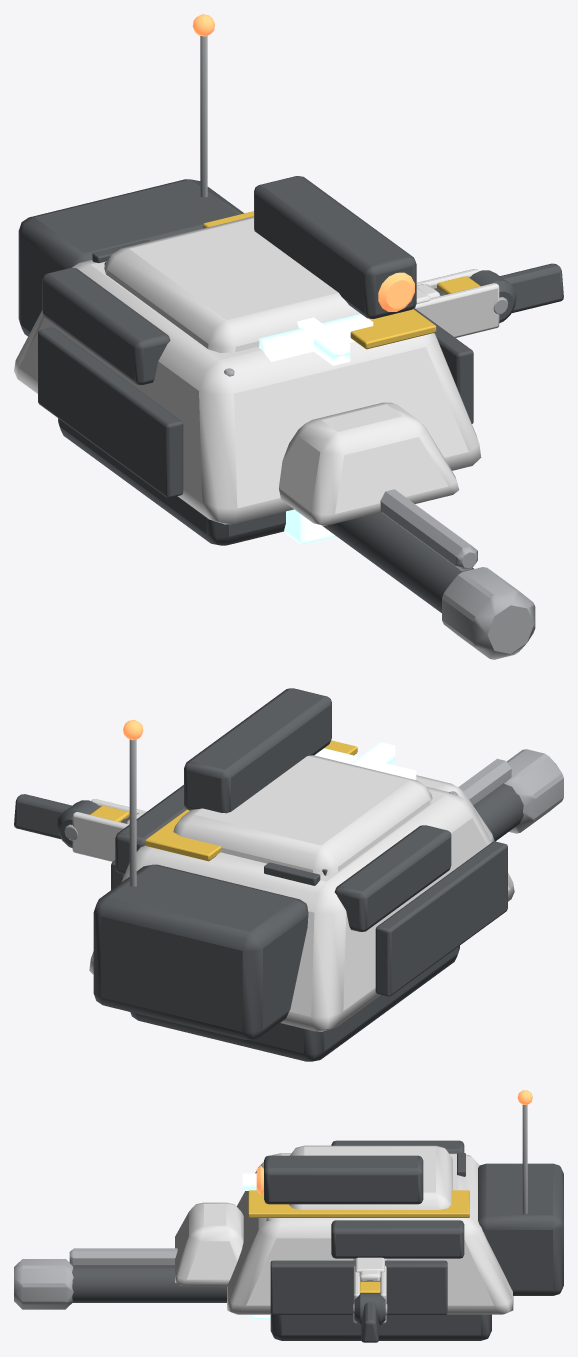
The model's file is rifle.glb.
3 views of the same model, one above another, from view 1: azimuth 30°, elevation 25°; view 2: azimuth 150°, elevation 25°; view 3: azimuth 270°, elevation 25° (orthographic). The views are drawn at different scales.
Visible parts, largest first — view 1: Hull, Turret, Barrel, LegUpper, LegLower; view 2: Hull, Turret, Barrel, LegUpper, LegLower; view 3: Hull, Turret, Barrel, LegUpper, LegLower.
Part boxes in pixels (left/top/right/bottom): Hull: left=14, top=14, right=481, bottom=545; Turret: left=104, top=176, right=416, bottom=361; Barrel: left=284, top=489, right=535, bottom=659; LegUpper: left=415, top=269, right=516, bottom=337; LegLower: left=416, top=263, right=563, bottom=312; Hull: left=89, top=719, right=514, bottom=1061; Turret: left=173, top=688, right=432, bottom=875; Barrel: left=458, top=749, right=563, bottom=841; LegUpper: left=57, top=799, right=146, bottom=861; LegLower: left=14, top=794, right=144, bottom=839; Hull: left=175, top=1090, right=563, bottom=1340; Turret: left=256, top=1145, right=452, bottom=1209; Barrel: left=14, top=1248, right=270, bottom=1319; LegUpper: left=353, top=1257, right=387, bottom=1325; LegLower: left=359, top=1270, right=380, bottom=1342.
Size of the model in its own units: 0.657 by 0.484 by 0.9933.
